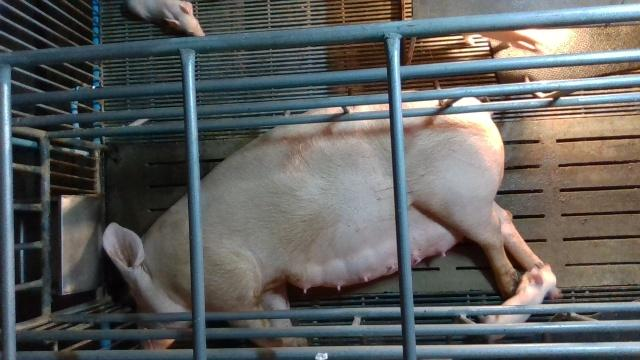piglet: (460, 265, 562, 345), (129, 0, 206, 37)
sow-sleep-lactate: (103, 95, 559, 350)
